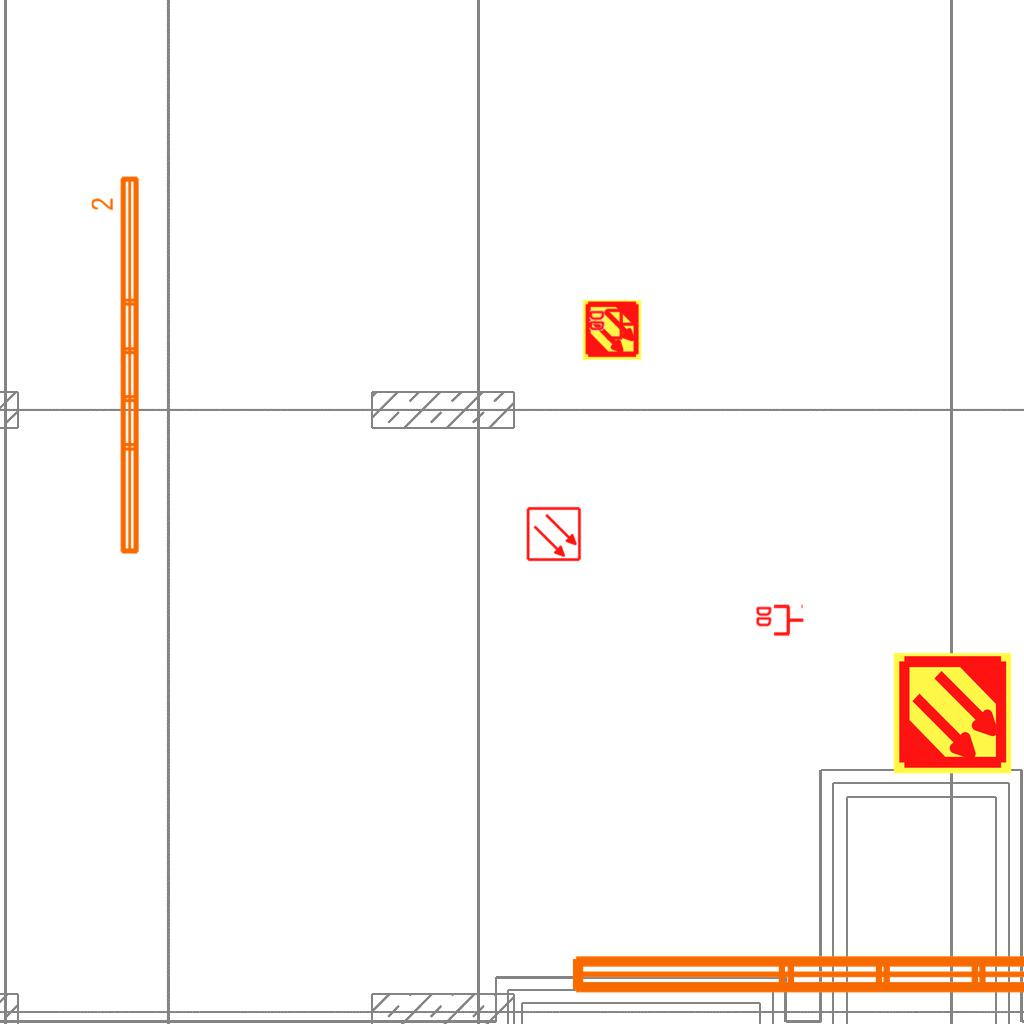ASR_Ansaugrauchmelder: (890, 651, 1015, 776), (581, 299, 643, 361)
Ambulanz_Pendelleuchte_LED: (562, 893, 1024, 1005), (89, 172, 145, 559)
Datenanschluss_zweifach: (754, 604, 805, 638), (587, 308, 638, 342)
RMO_Rauchmelder_optischer: (526, 506, 582, 562)
